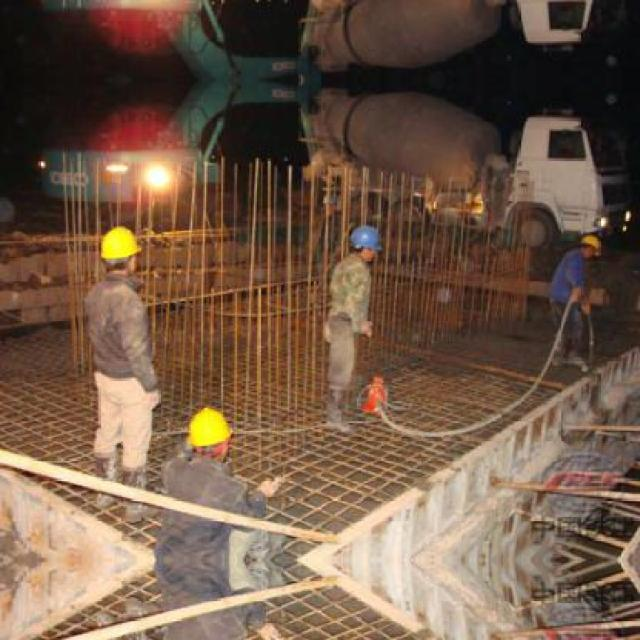helmet: (185, 403, 233, 465), (98, 223, 142, 279), (346, 223, 377, 260), (577, 232, 601, 260)
